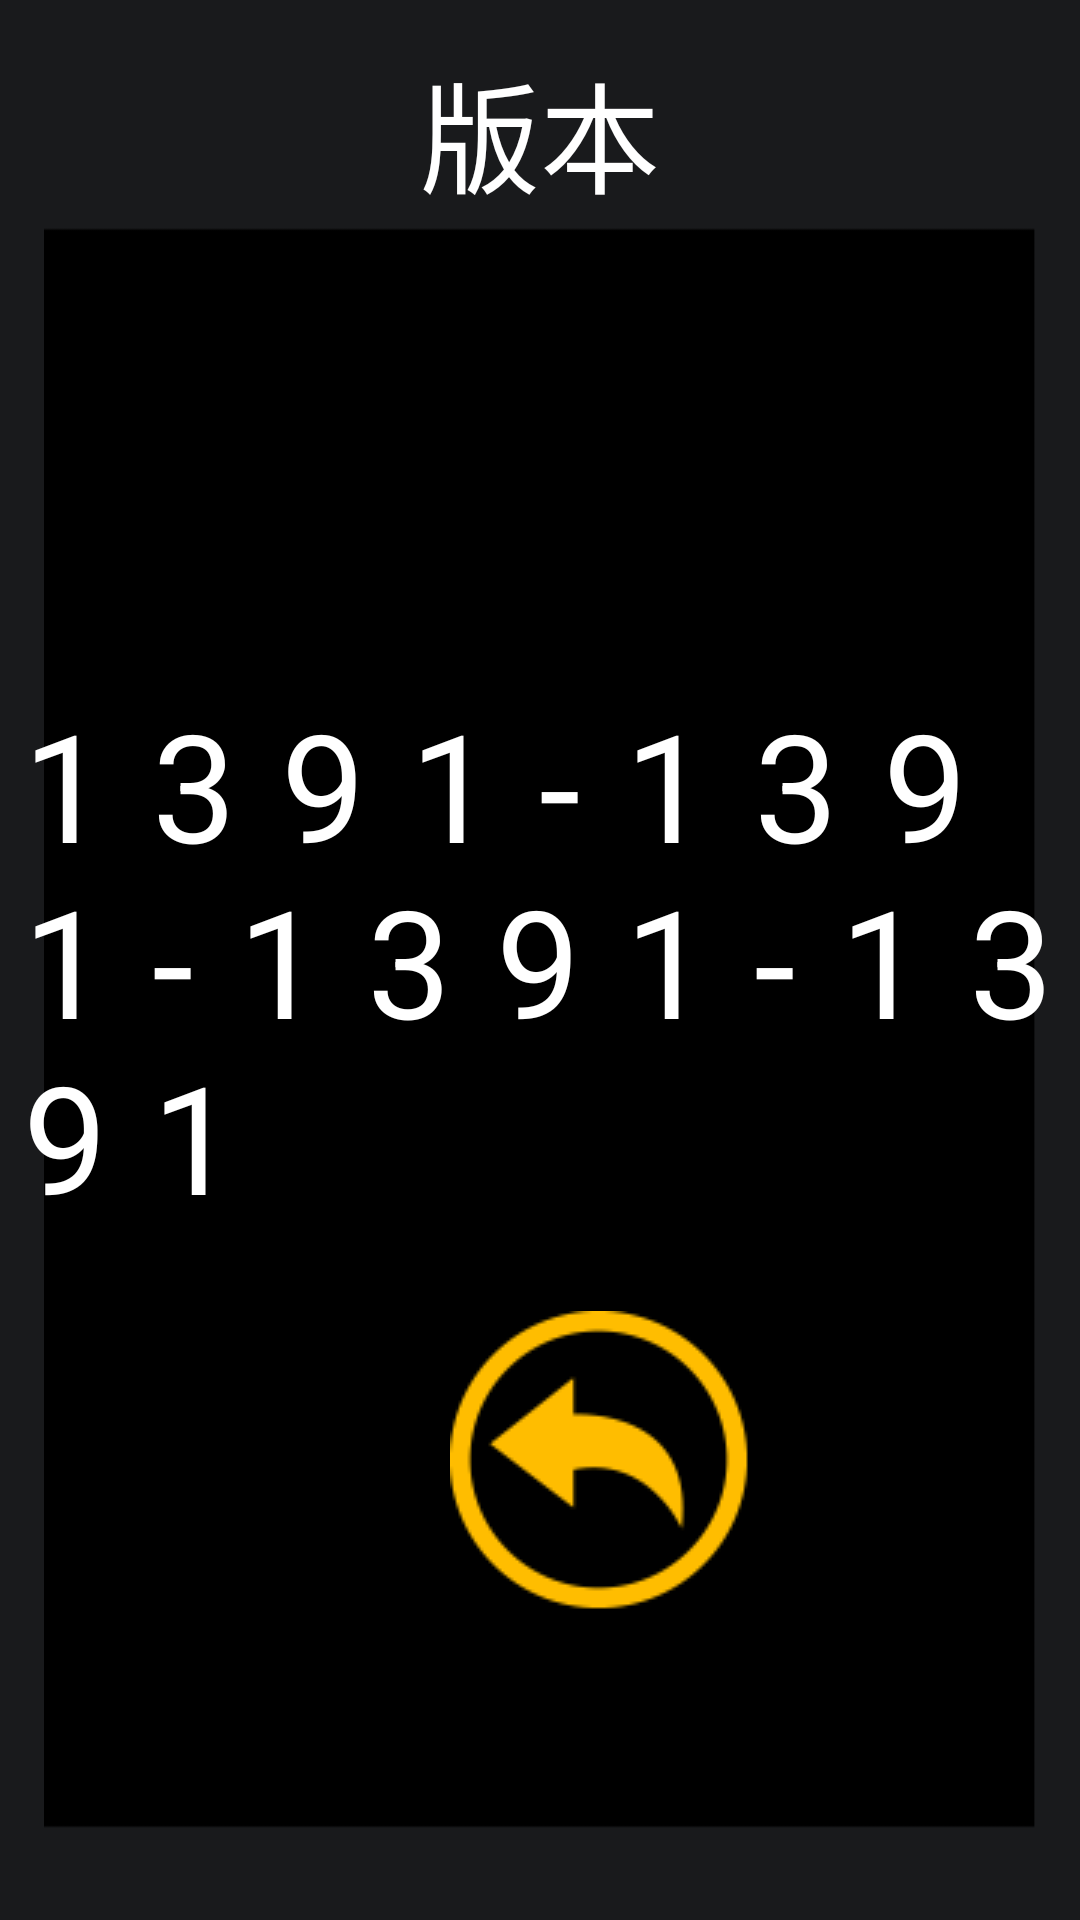

Icon bounding boxes for this 1080px×1920px phone screenshot, format [x1=x1, y1=y1, x2=x2, y2=y2]:
back: [x1=450, y1=1311, x2=748, y2=1609]
